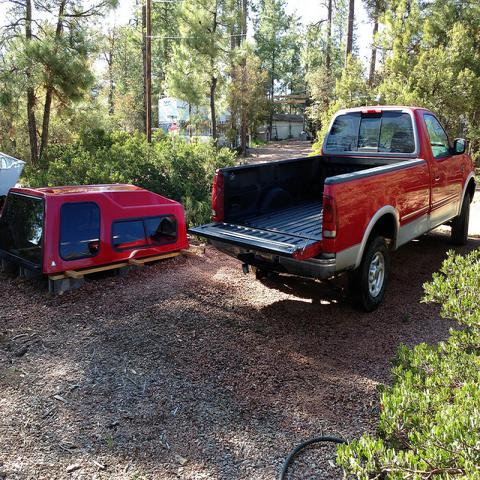truck: (189, 106, 478, 312)
